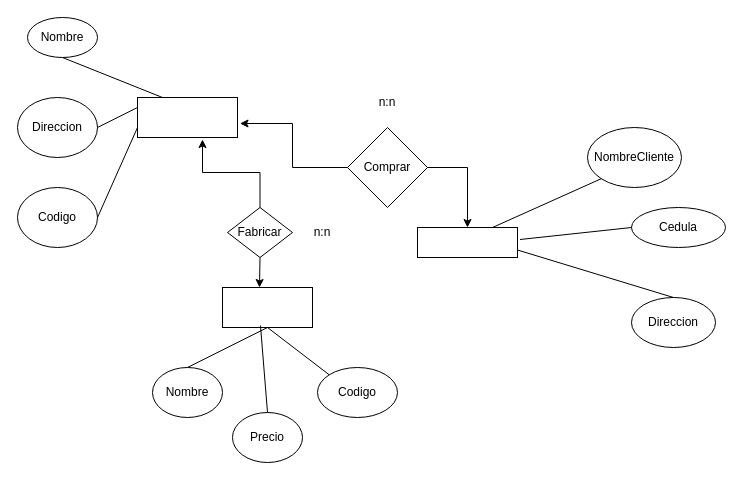
The diagram is 743 pixels wide and 480 high, and some of its shapes have lost their labels. Here are the shapes that lost their labels. From the top down, the box of each, then its label:
(136, 96, 238, 138): Proveedores
(416, 226, 518, 258): Cliente
(222, 286, 312, 328): Productos
